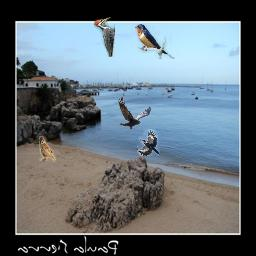Crow: (118, 96, 151, 129)
Sparrow: (39, 136, 56, 162)
Swallow: (135, 24, 175, 59)
Woodpecker: (94, 17, 115, 57), (137, 129, 160, 156)
